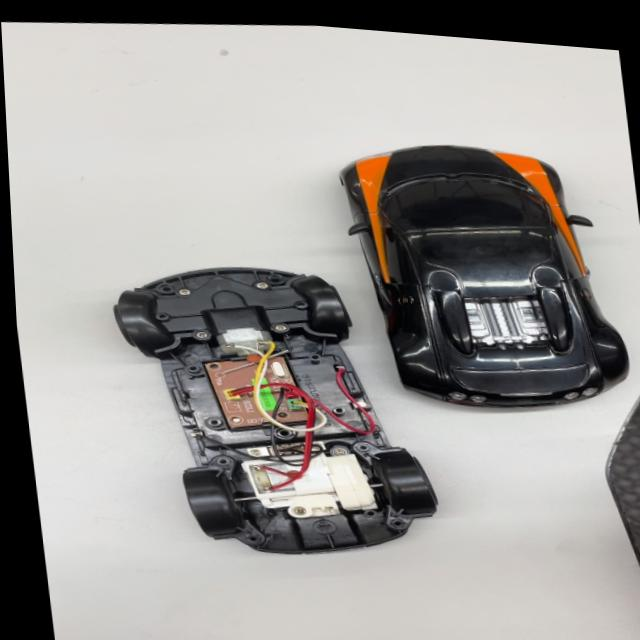Chassis: (93, 242, 453, 580)
vehicle_body: (324, 122, 640, 425)
